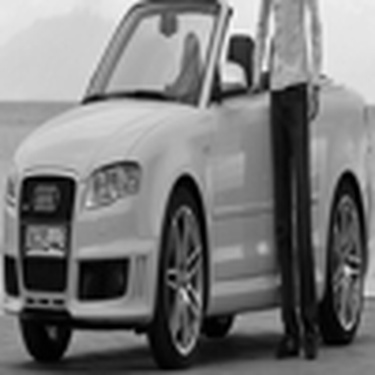car: (10, 1, 356, 348)
